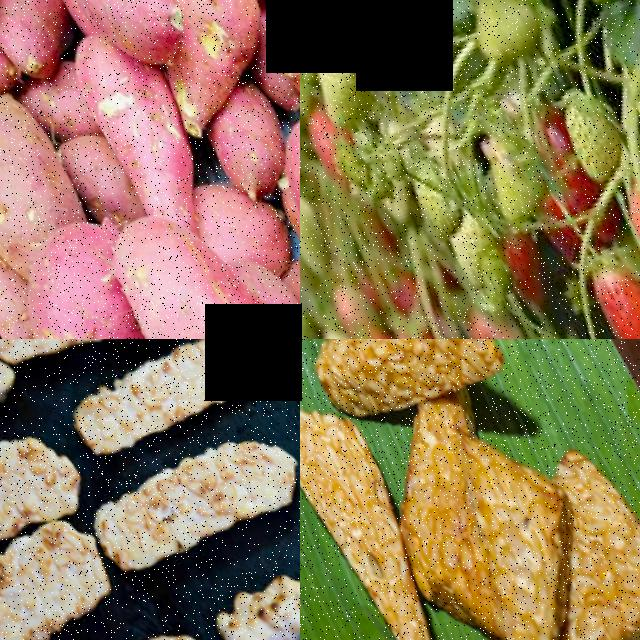strawberry: (300, 17, 391, 138), (538, 69, 635, 181), (569, 237, 640, 334)
sweet potato: (76, 178, 300, 339), (71, 50, 217, 231), (0, 214, 183, 339), (0, 76, 88, 262), (248, 79, 300, 339), (25, 0, 193, 75), (150, 0, 277, 62)
tempeh: (423, 386, 640, 640), (61, 394, 300, 589), (300, 381, 460, 640), (47, 339, 266, 469), (300, 339, 513, 439), (0, 397, 99, 599), (0, 495, 125, 640), (188, 491, 300, 640), (211, 339, 300, 508), (0, 339, 197, 404), (0, 593, 246, 640)
